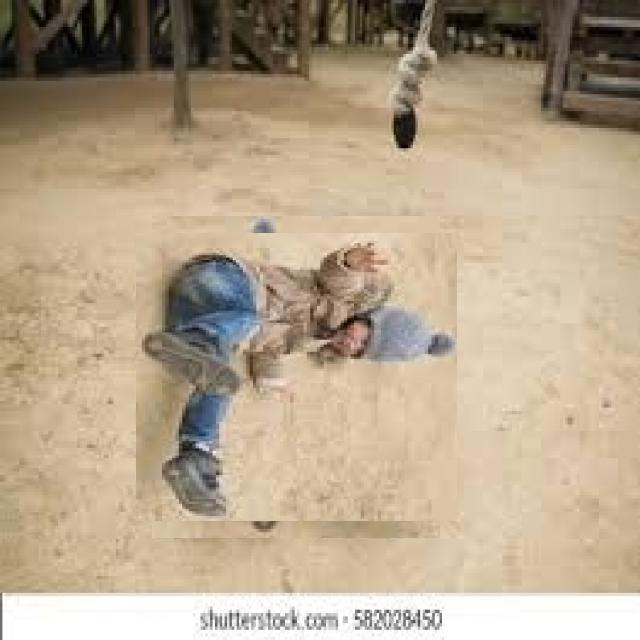Fall: (125, 243, 472, 550)
